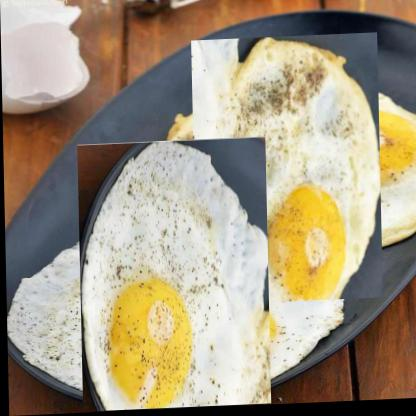egg: (39, 174, 308, 414), (171, 55, 401, 290)
